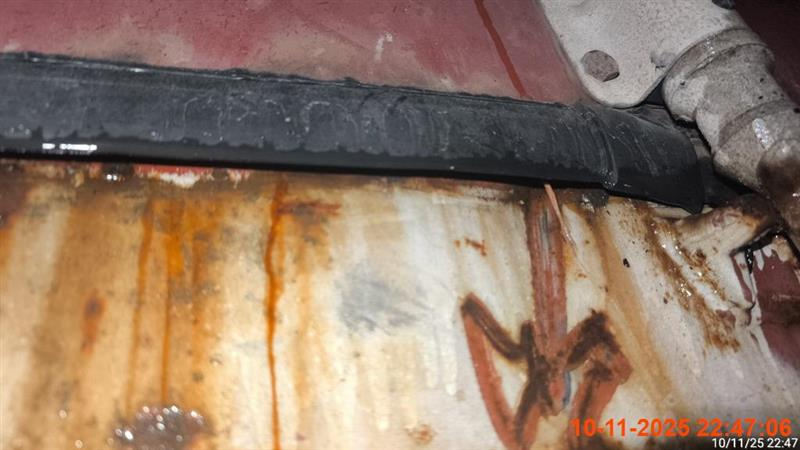hole: (0, 52, 715, 215), (538, 1, 798, 252)
